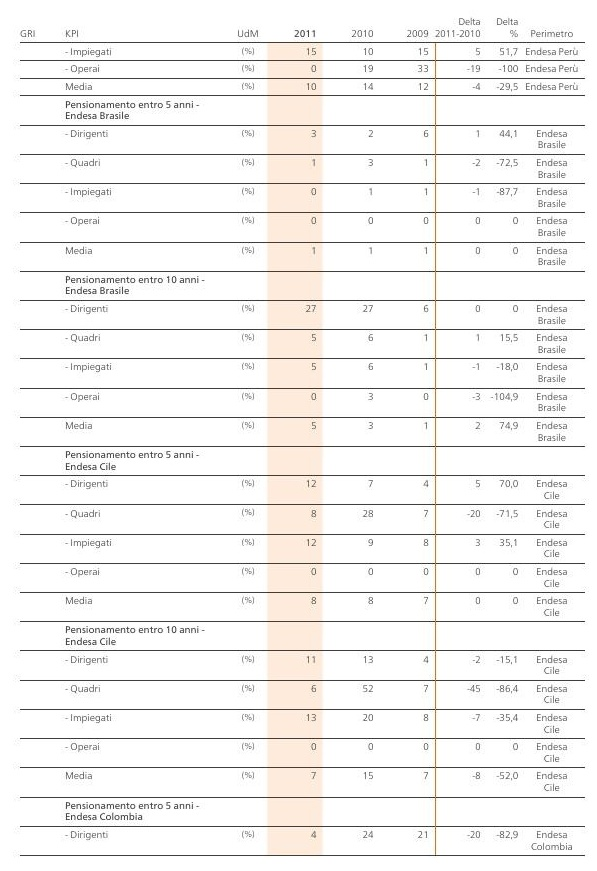table: (0, 0, 597, 871)
